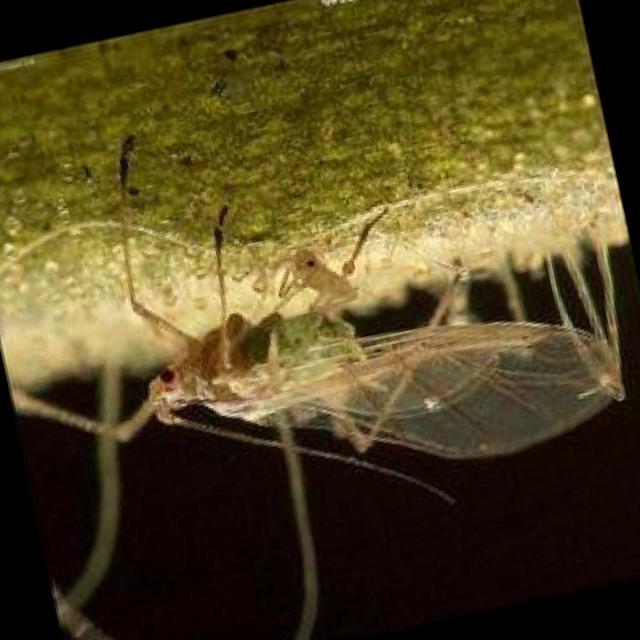aphid: (74, 164, 626, 546)
